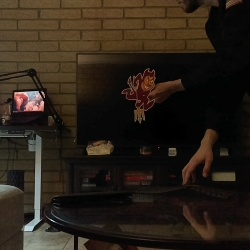sparky: (120, 67, 155, 124)
